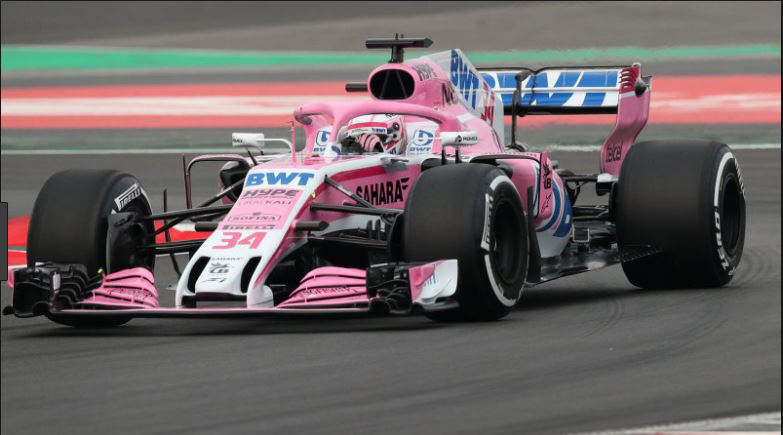F1 Car: (1, 26, 755, 335)
